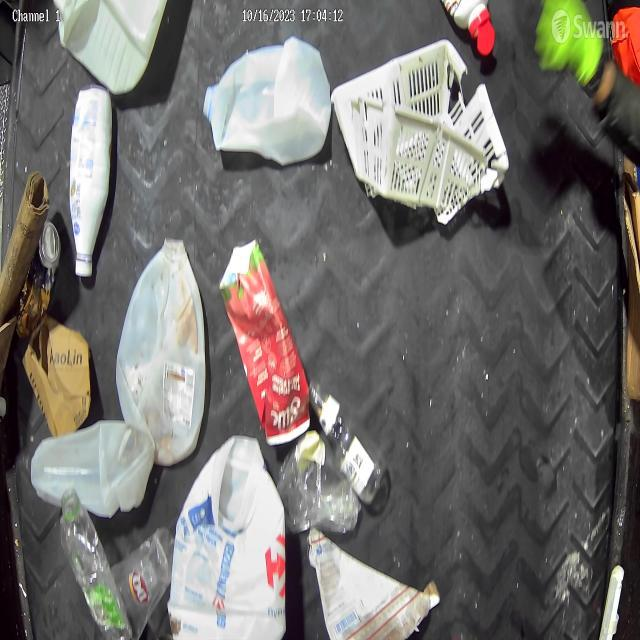can: (22, 210, 65, 328)
milk_jug: (175, 429, 287, 640), (116, 232, 209, 449), (198, 37, 328, 157), (22, 420, 148, 500), (69, 87, 108, 255)
non_white_jug: (221, 237, 305, 437)
plastic_bottle: (56, 481, 126, 640), (306, 375, 390, 503), (285, 425, 364, 536), (112, 536, 170, 632)
